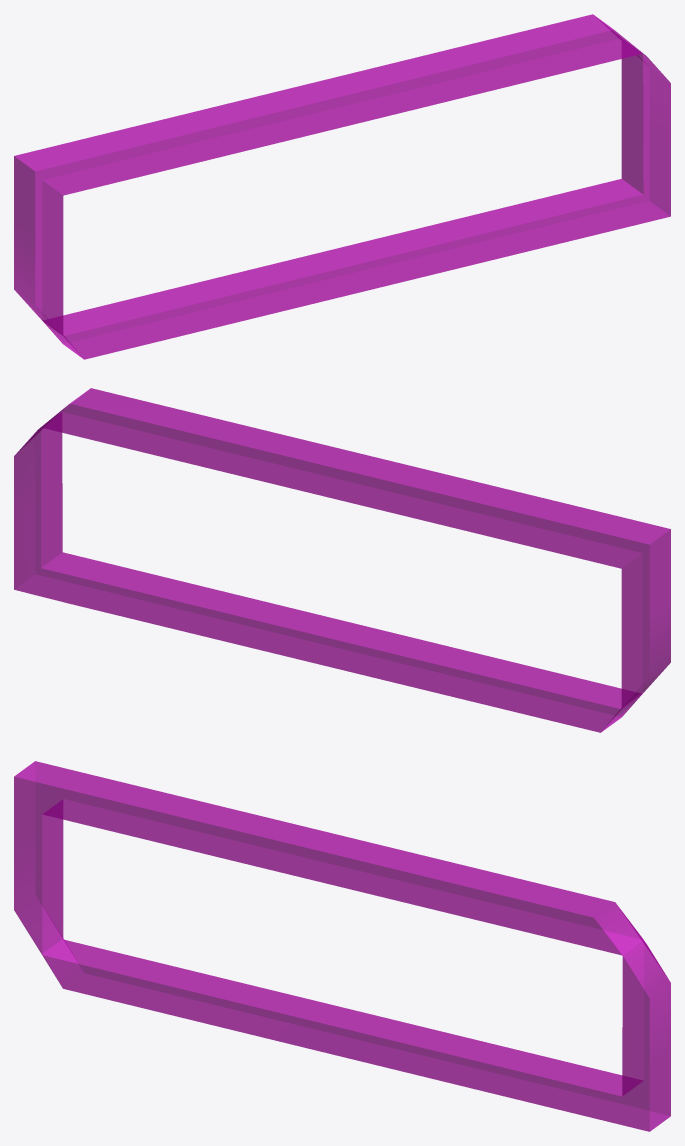
The model's file is AngledBoarder_Purple.fbx.
3 views of the same model, one above another, from view 1: azimuth 30°, elevation 25°; view 2: azimuth 150°, elevation 25°; view 3: azimuth 330°, elevation 25° (orthographic).
Parts seen in each view (by area): view 1: Boarder_Angled; view 2: Boarder_Angled; view 3: Boarder_Angled.
Boxes of the visible parts, left/top/right/bottom form: Boarder_Angled: left=14, top=14, right=670, bottom=359; Boarder_Angled: left=14, top=388, right=670, bottom=732; Boarder_Angled: left=14, top=761, right=670, bottom=1131.
Bounding box in the file's own units: 25.18 × 1.49 × 7.58.
